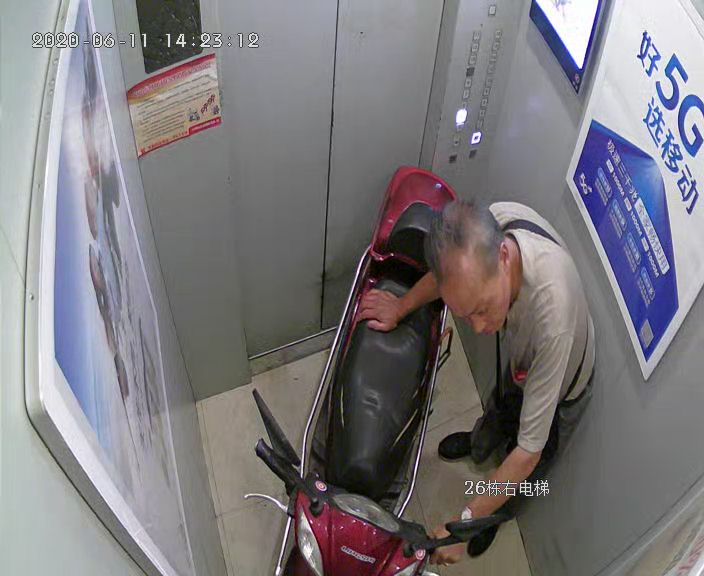Electric-bicycle: (287, 166, 446, 576)
